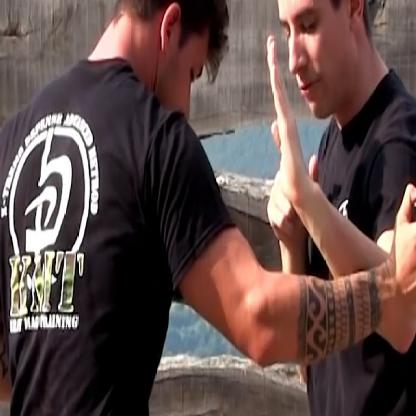knife: (394, 180, 416, 415)
